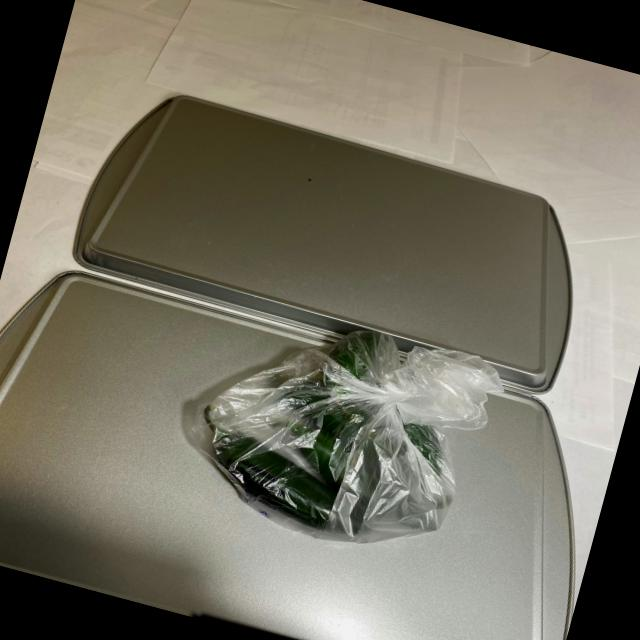chilli: (181, 292, 482, 552)
